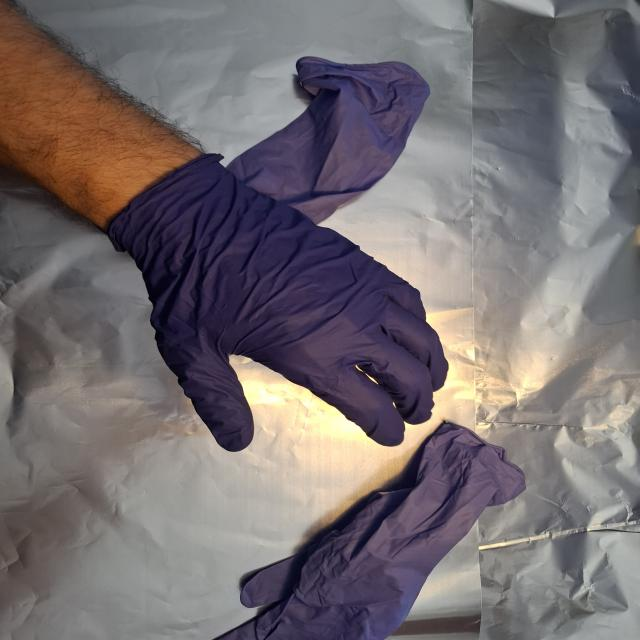glove_on: (105, 152, 455, 454)
